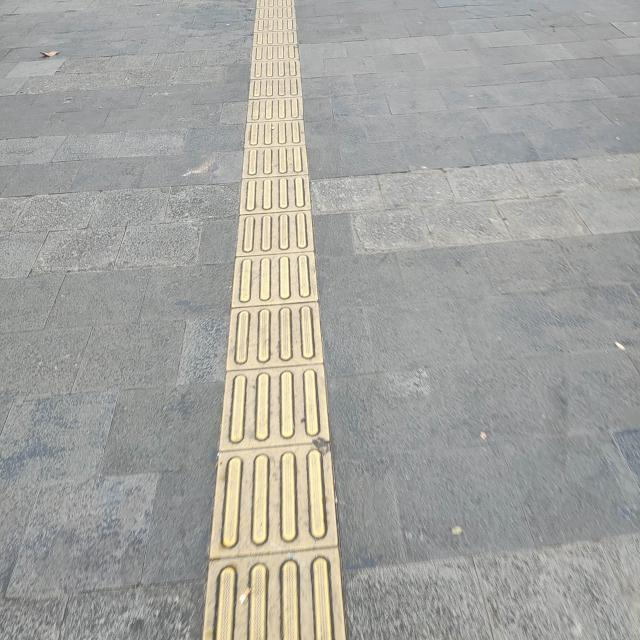lurus: (214, 6, 328, 640)
